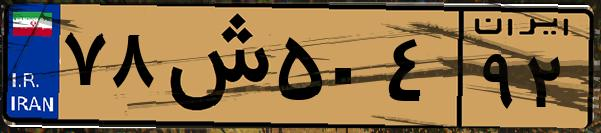0: (330, 28, 385, 110)
2: (525, 38, 570, 115)
4: (385, 28, 445, 110)
5: (270, 28, 330, 110)
7: (57, 26, 110, 100)
8: (110, 28, 158, 98)
9: (475, 38, 525, 113)
ش: (158, 12, 270, 120)
